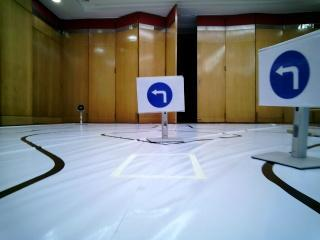left: (258, 43, 320, 105), (132, 77, 184, 108)
